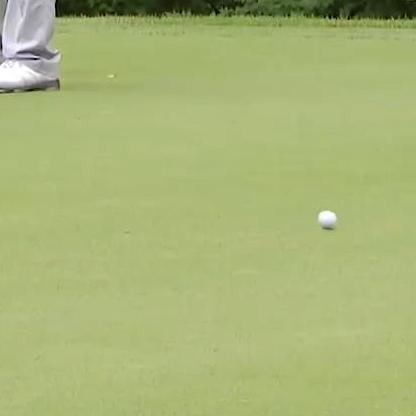golfball: (314, 206, 337, 229)
